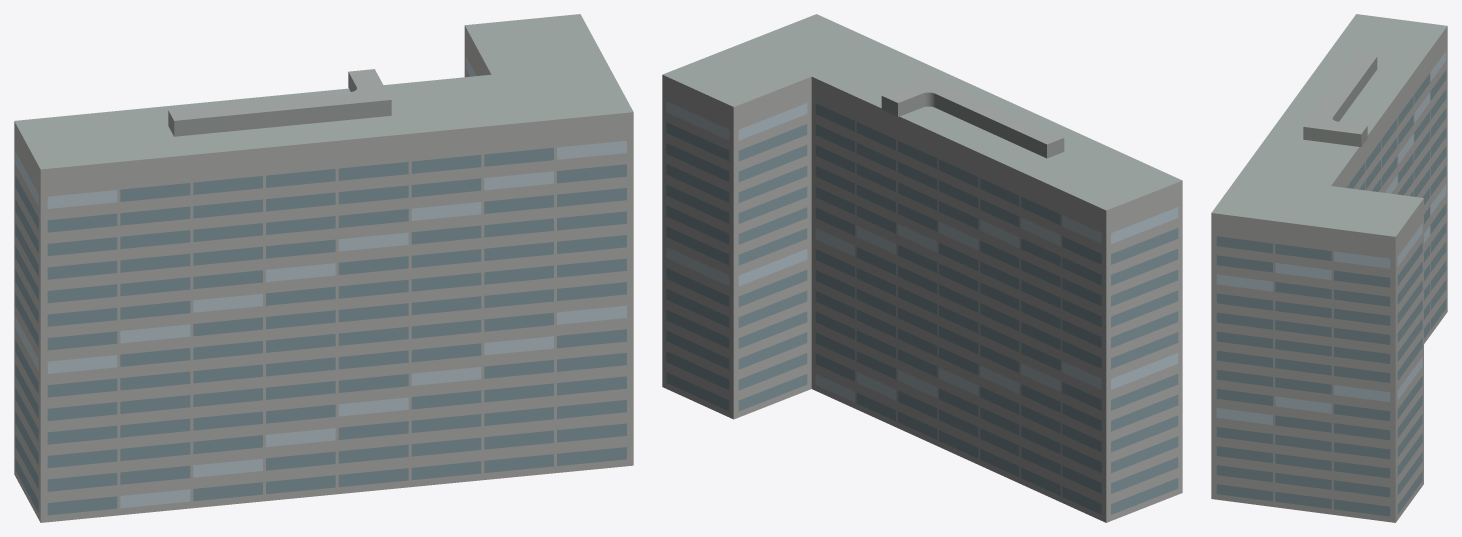
File: fallback-olympic-park-foreon-421.glb
3 views of the same model, side by side, from view 1: azimuth 30°, elevation 25°; view 2: azimuth 150°, elevation 25°; view 3: azimuth 270°, elevation 25° (orthographic). The views are drawn at different scales.
Parts seen in each view (by area): view 1: fallback-olympic-park-foreon-421; view 2: fallback-olympic-park-foreon-421; view 3: fallback-olympic-park-foreon-421.
Boxes of the visible parts, x1=… form: fallback-olympic-park-foreon-421: x1=14, y1=14, x2=633, y2=522; fallback-olympic-park-foreon-421: x1=662, y1=14, x2=1182, y2=522; fallback-olympic-park-foreon-421: x1=1211, y1=14, x2=1447, y2=522.
Bounding box in the file's own units: 76.44 × 47.81 × 34.24.
